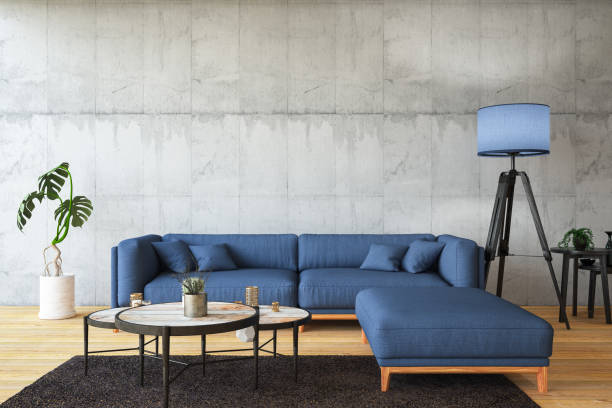floor lamp: (475, 100, 573, 330)
large plant: (15, 159, 94, 322)
side table: (550, 246, 612, 326)
small plant: (174, 260, 210, 318), (561, 224, 597, 252)
sofa: (110, 229, 489, 329)
table: (81, 296, 309, 407)
